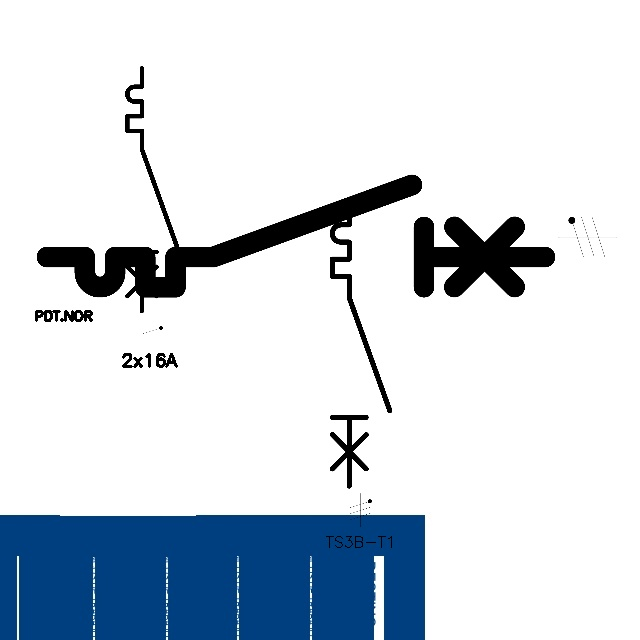interruptor_termomagnetico: (34, 172, 558, 300), (325, 196, 397, 493), (121, 62, 183, 317)
